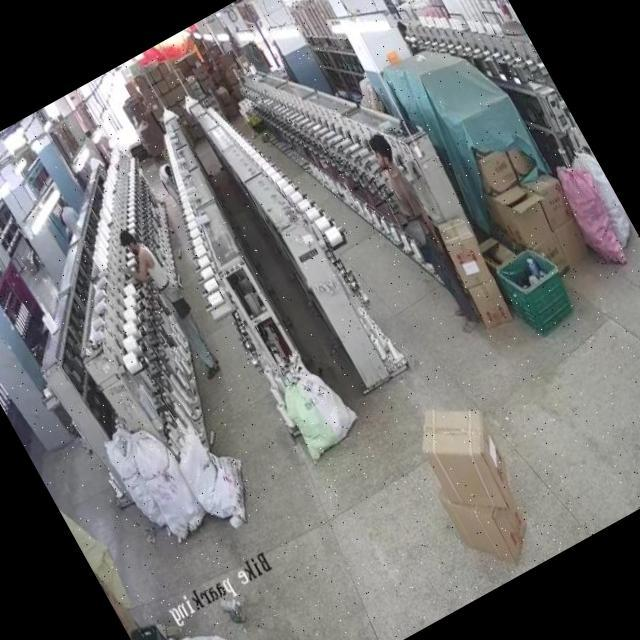person: (360, 129, 492, 337), (116, 218, 222, 380), (150, 157, 186, 204), (53, 194, 78, 224)
